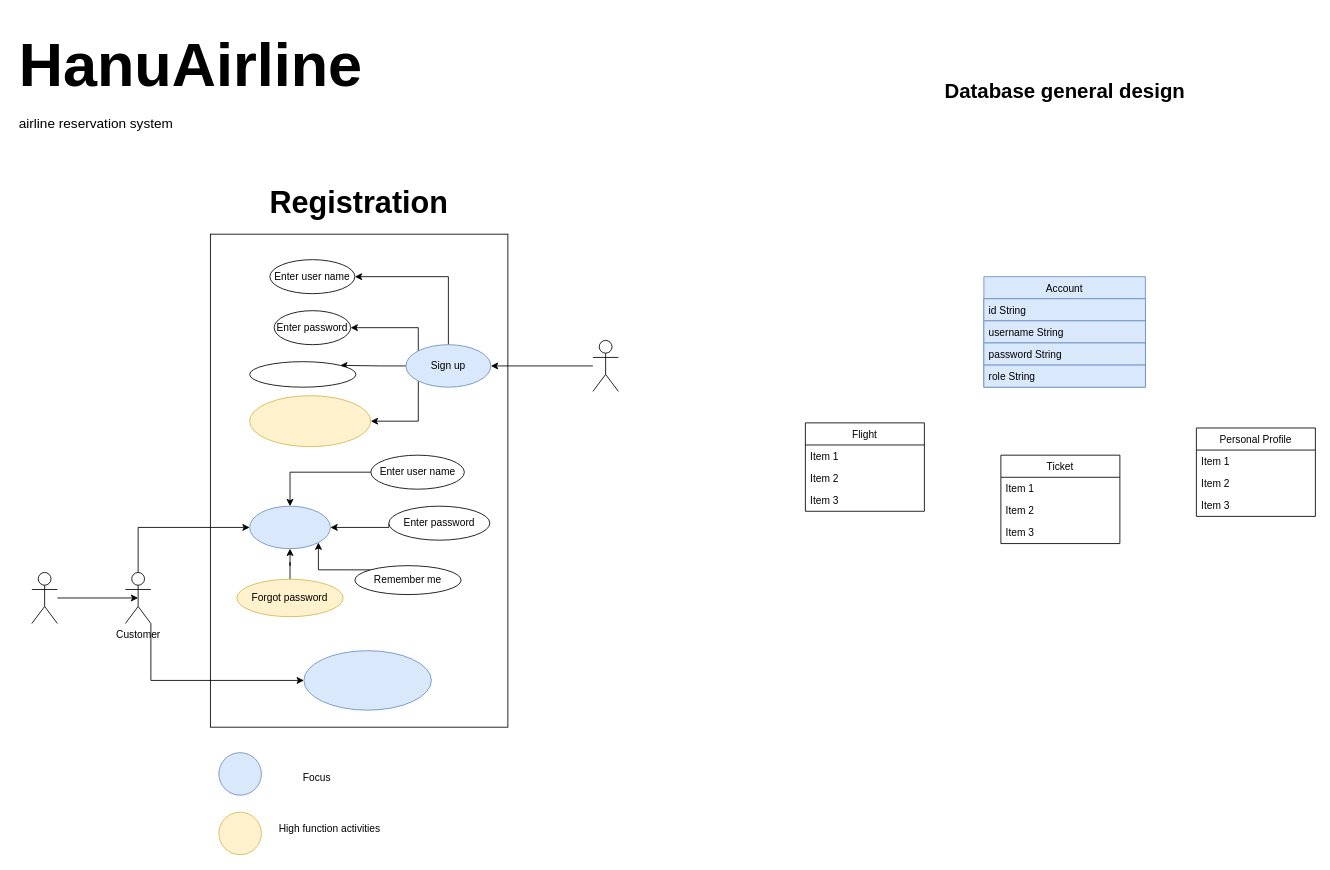
Image size: 1330x870. Some labels were removed from this diagram. Here are the shapes that lost their labels. From the top down, the centre of each, then its label:
[302,374]: Confirm pasword
[605,365]: Guest
[310,421]: Enter email to get the verified code
[289,527]: Sign in
[44,597]: Admin
[367,680]: Log out
